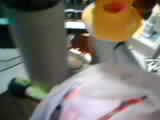duck: (76, 6, 144, 37)
